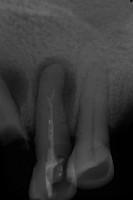Furcation Involvement: (32, 54, 78, 117), (0, 63, 29, 114)
